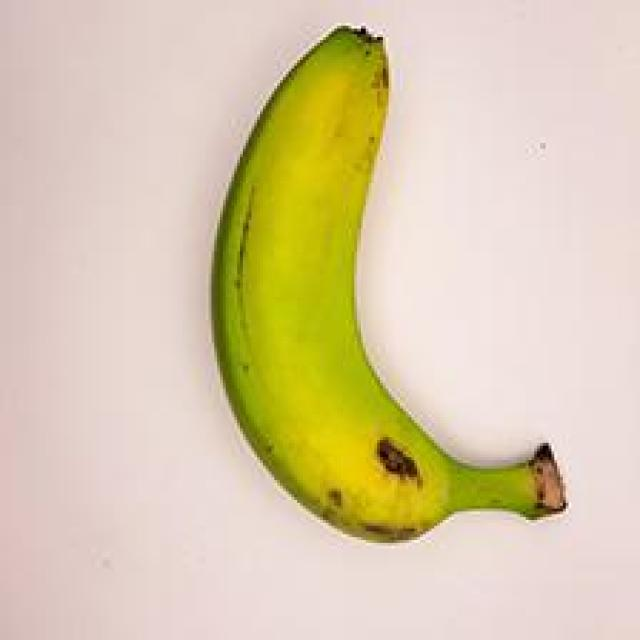Unripe: (166, 7, 568, 566)
